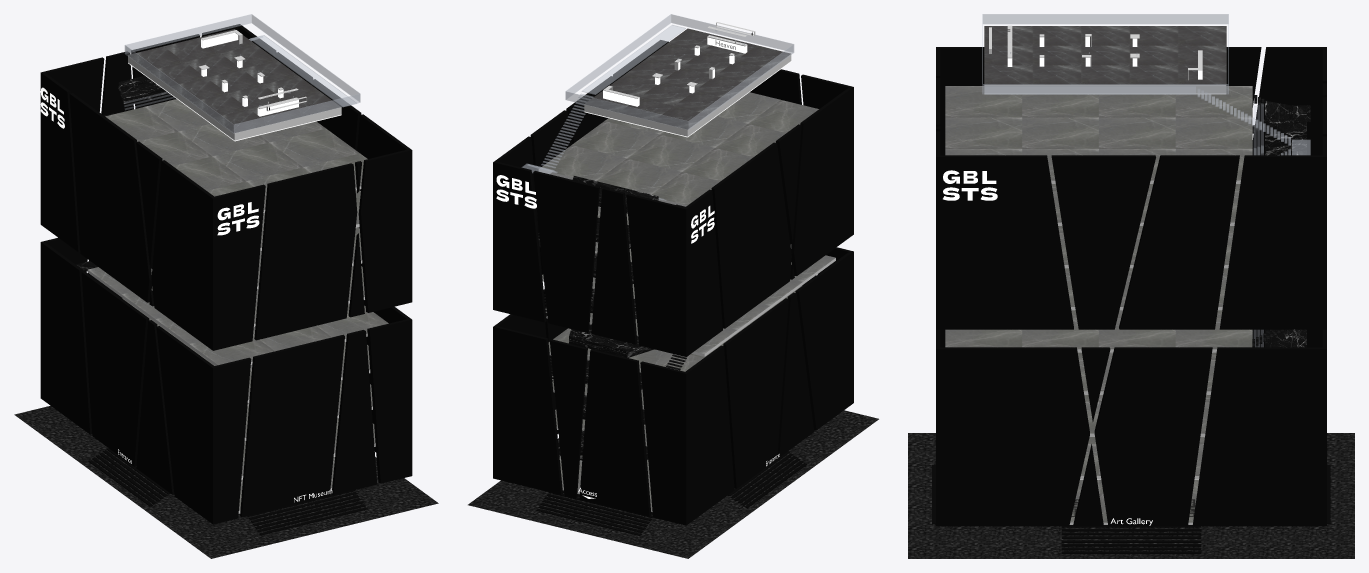
Rendered from Edificio.glb.
3 views of the same model, side by side, from view 1: azimuth 30°, elevation 25°; view 2: azimuth 150°, elevation 25°; view 3: azimuth 270°, elevation 25° (orthographic). The views are drawn at different scales.
Visible parts, largest first — view 1: LOUVER_B, OVNI_barandal_vidrio, Escalinata_3.003, Acabado_02.015, Acabado_01.015, HEAVEN_BLOQUE, Escalinata_3.005, SKY_CORRIDOR, Acabado_04.014, Acabado_03.015, Acabado_03.014, Acabado_05.014 (+34 smaller); view 2: LOUVER_B, OVNI_barandal_vidrio, Escalinata_3.002, Acabado_06.014, Acabado_05.014, Acabado_02.014, Acabado_01.014, HEAVEN_BLOQUE, Escalinata_3.005, SKY_CORRIDOR, Acabado_04.015, Acabado_03.015 (+34 smaller); view 3: LOUVER_B, OVNI_barandal_vidrio, Escalinata_3.001, Acabado_01.014, Acabado_01.015, Acabado_05.014, Acabado_05.015, HEAVEN_BLOQUE, Acabado_04.015, oficina_T.009, Acabado_03.014, SKY_CORRIDOR (+44 smaller).
Part boxes in pixels (box(x1,y1,x2,y2)): LOUVER_B: box(40, 24, 412, 524); OVNI_barandal_vidrio: box(124, 14, 360, 133); Escalinata_3.003: box(248, 490, 367, 535); Acabado_02.015: box(269, 128, 359, 167); Acabado_01.015: box(213, 142, 302, 180); HEAVEN_BLOQUE: box(128, 55, 341, 140); Escalinata_3.005: box(88, 448, 170, 506); SKY_CORRIDOR: box(250, 35, 356, 107); Acabado_04.014: box(137, 131, 211, 165); Acabado_03.015: box(173, 156, 245, 190); Acabado_03.014: box(105, 107, 177, 141); Acabado_05.014: box(179, 124, 268, 156); LOUVER_B: box(493, 40, 853, 525); OVNI_barandal_vidrio: box(565, 14, 794, 129); Escalinata_3.002: box(536, 490, 652, 535); Acabado_06.014: box(572, 121, 659, 158); Acabado_05.014: box(627, 134, 714, 171); Acabado_02.014: box(540, 145, 626, 180); Acabado_01.014: box(596, 158, 681, 194); HEAVEN_BLOQUE: box(584, 54, 791, 136); Escalinata_3.005: box(728, 451, 807, 508); SKY_CORRIDOR: box(582, 25, 685, 94); Acabado_04.015: box(748, 100, 818, 133); Acabado_03.015: box(715, 124, 785, 157); LOUVER_B: box(936, 47, 1326, 526); OVNI_barandal_vidrio: box(982, 14, 1228, 94); Escalinata_3.001: box(1061, 525, 1201, 553); Acabado_01.014: box(1175, 117, 1252, 148); Acabado_01.015: box(1022, 117, 1098, 148); Acabado_05.014: box(1099, 117, 1175, 148); Acabado_05.015: box(945, 117, 1021, 148); HEAVEN_BLOQUE: box(984, 85, 1226, 93); Acabado_04.015: box(945, 86, 1021, 117); oficina_T.009: box(1265, 100, 1306, 155); Acabado_03.014: box(1175, 86, 1252, 117); SKY_CORRIDOR: box(985, 86, 1195, 94).
Size of what is drawn, in the model's own units: 32 by 54.4 by 48.
106 materials, 58 textured.
